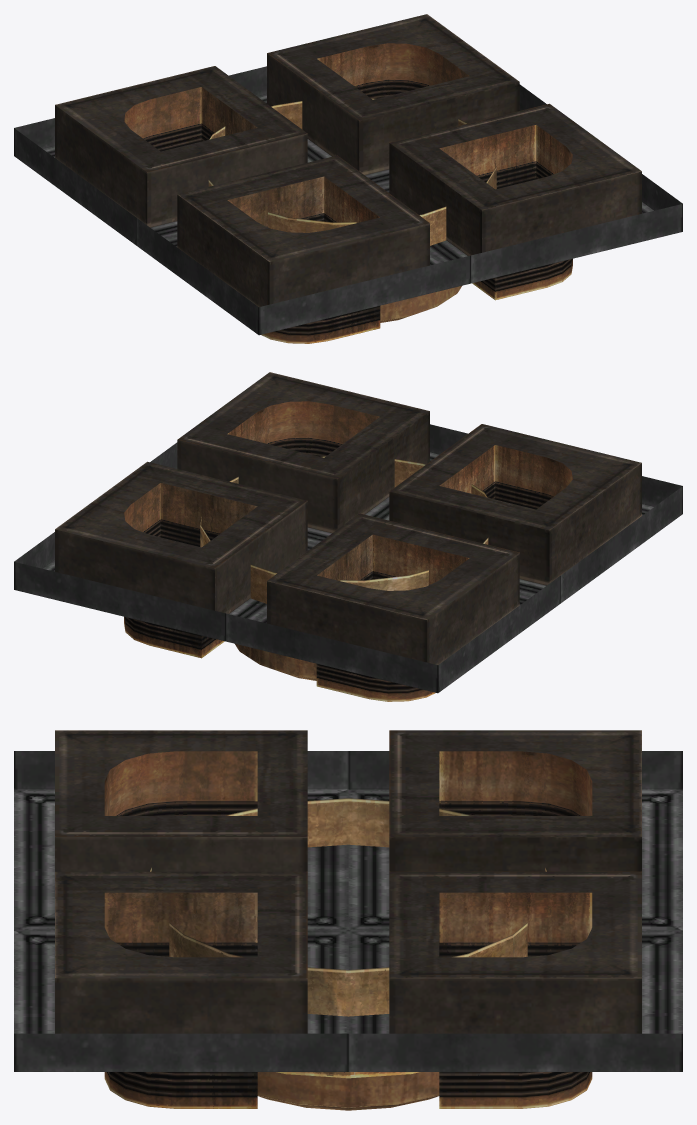
Rendered from tesla_props_giant_fuse_01_light.dae.
3 views of the same model, one above another, from view 1: azimuth 30°, elevation 25°; view 2: azimuth 150°, elevation 25°; view 3: azimuth 270°, elevation 25° (orthographic). The views are drawn at different scales.
Visible parts, largest first — view 1: polySurface107; view 2: polySurface107; view 3: polySurface107.
Boxes of the visible parts, <box> form: polySurface107: <box>14,14,682,343</box>; polySurface107: <box>14,372,682,701</box>; polySurface107: <box>14,730,682,1110</box>.
Bounding box in the file's own units: 4 × 1.31 × 4.
2 materials, 2 textured.
